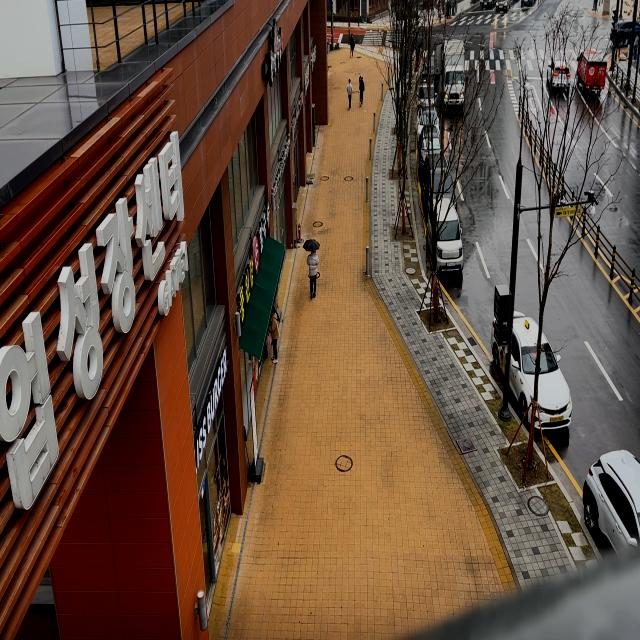Car: (494, 284, 578, 430), (583, 451, 640, 560), (424, 195, 466, 284), (544, 51, 574, 97), (608, 10, 640, 45), (412, 77, 437, 109)
Truck: (438, 31, 472, 108), (574, 42, 609, 102)
